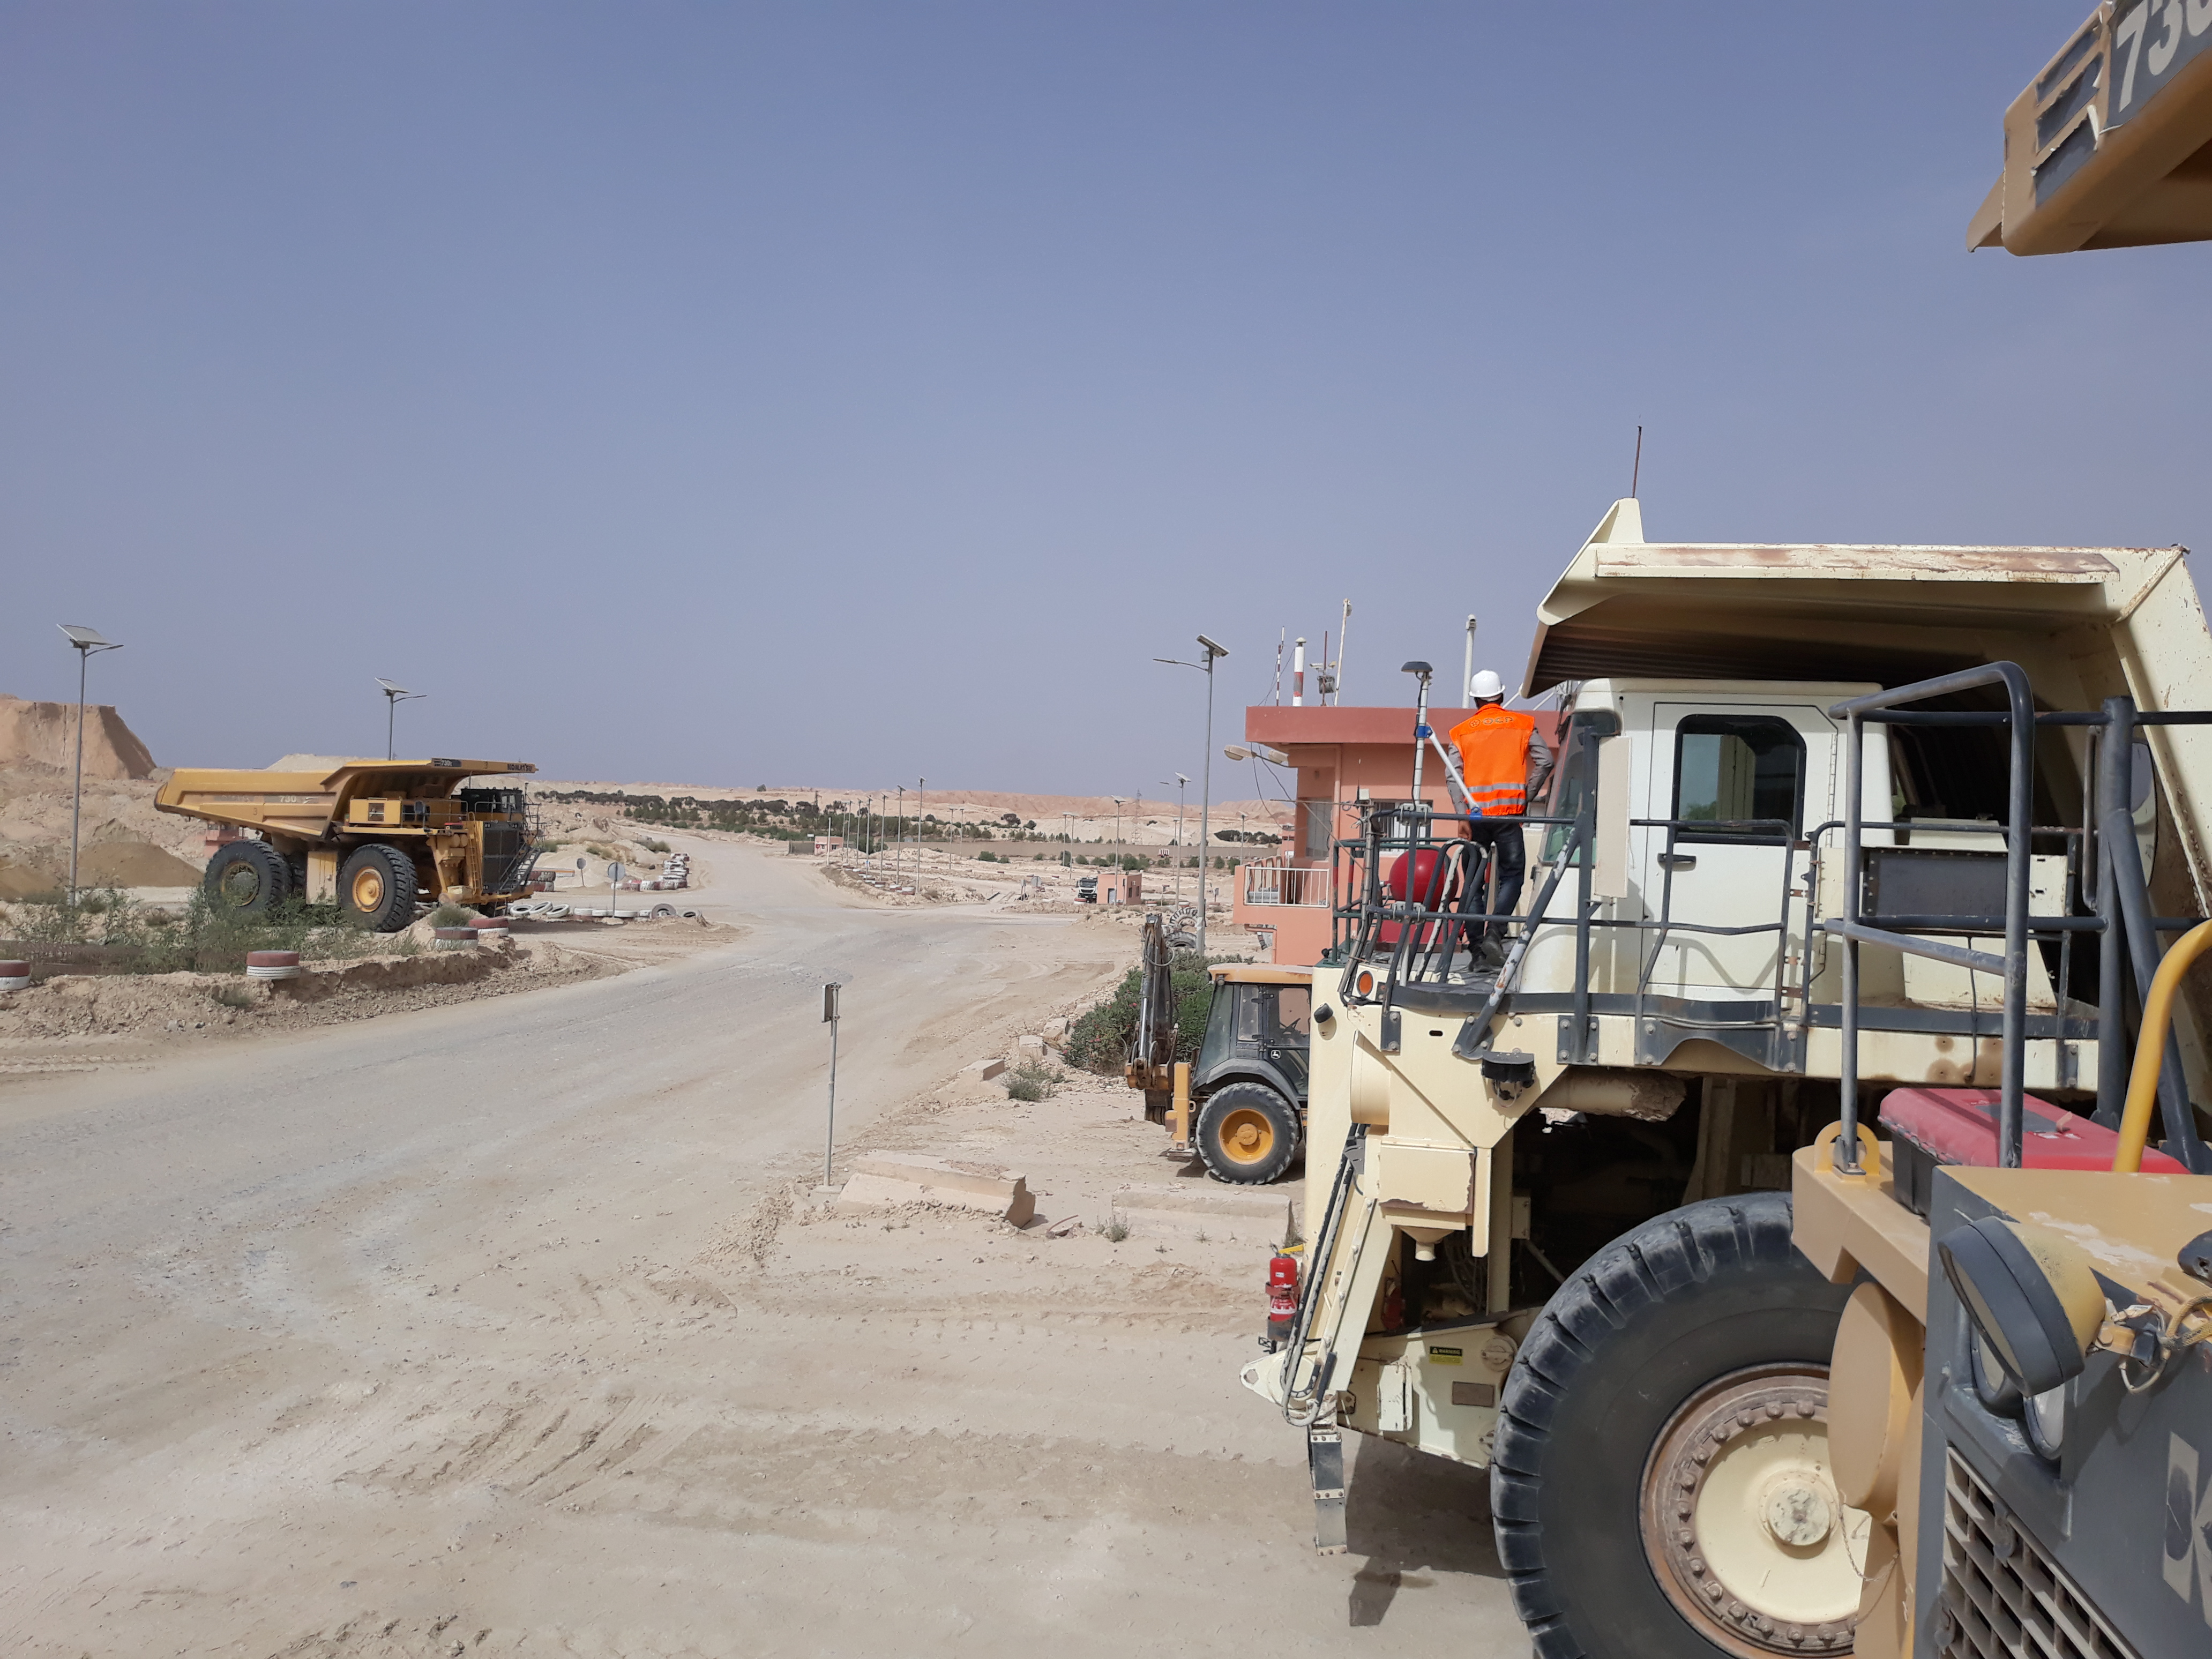camion: (1284, 495, 2212, 1642), (147, 731, 565, 961)
person: (1421, 659, 1549, 984)
